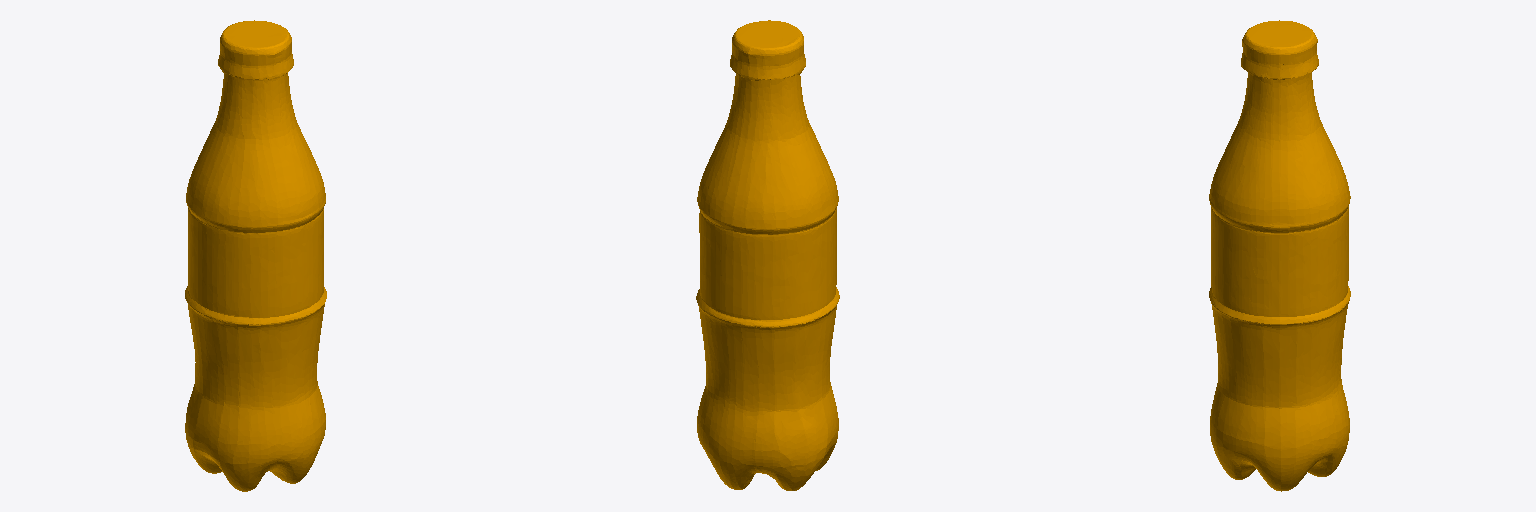
robot.urdf — sample:
<?xml version='1.0' encoding='utf-8'?>
<robot name="sample">
   <link name="sample">
      <visual>
         <origin xyz="0 0 0" rpy="1.5708 0.0 0.0" />
         <geometry>
            <mesh filename="mesh/sample.obj" scale="1.0 1.0 1.0" />
         </geometry>
      </visual>
      <collision>
         <origin xyz="0 0 0" rpy="1.5708 0.0 0.0" />
         <geometry>
            <mesh filename="mesh/sample_collision.obj" scale="1.0 1.0 1.0" />
         </geometry>
         <gazebo>
            <mu1>1.0</mu1>
            <mu2>0.8</mu2>
         </gazebo>
      </collision>
      <inertial>
         <mass value="0.5000" />
         <origin xyz="0 0 0" />
         <inertia ixx="0.000190" ixy="0.000000" ixz="0.000000" iyy="0.000026" iyz="0.000000" izz="0.000189" />
      </inertial>
      <extra_info>
         <scale>0.275000</scale>
         <version>v0.1.7</version>
         <category>soda bottle</category>
         <description>red-labeled plastic bottle with dark liquid and cap</description>
         <min_height>0.25</min_height>
         <max_height>0.3</max_height>
         <real_height>0.275</real_height>
         <min_mass>0.4</min_mass>
         <max_mass>0.6</max_mass>
         <generate_time>20260204102243</generate_time>
         <gs_model>mesh/sample_gs.ply</gs_model>
      </extra_info>
   </link>
   <custom_data>
      <quality>
         <MeshGeoChecker>YES</MeshGeoChecker>
         <ImageSegChecker>NO, object is not centered and background is not properly removed.</ImageSegChecker>
         <ImageAestheticChecker>4.446610808372498</ImageAestheticChecker>
         <overall>NO</overall>
      </quality>
   </custom_data>
</robot>

--- Facts derived from the render (not from the file) ---
Views: 3 orthographic renders of the robot side by side, from view 1: azimuth 30°, elevation 25°; view 2: azimuth 150°, elevation 25°; view 3: azimuth 270°, elevation 25°.
Model sample with 1 links and 0 joints (none), rooted at sample, posed every joint at zero.
Links seen in each view (by area): view 1: sample; view 2: sample; view 3: sample.
Boxes of the visible links, <box> form: sample: <box>185,20,326,491</box>; sample: <box>696,20,839,490</box>; sample: <box>1209,20,1350,491</box>.
Size in the robot's own frame: 0.0805 by 0.0811 by 0.275 metres.
1 mesh visuals loaded from 1 distinct referenced files (1 OBJ).
